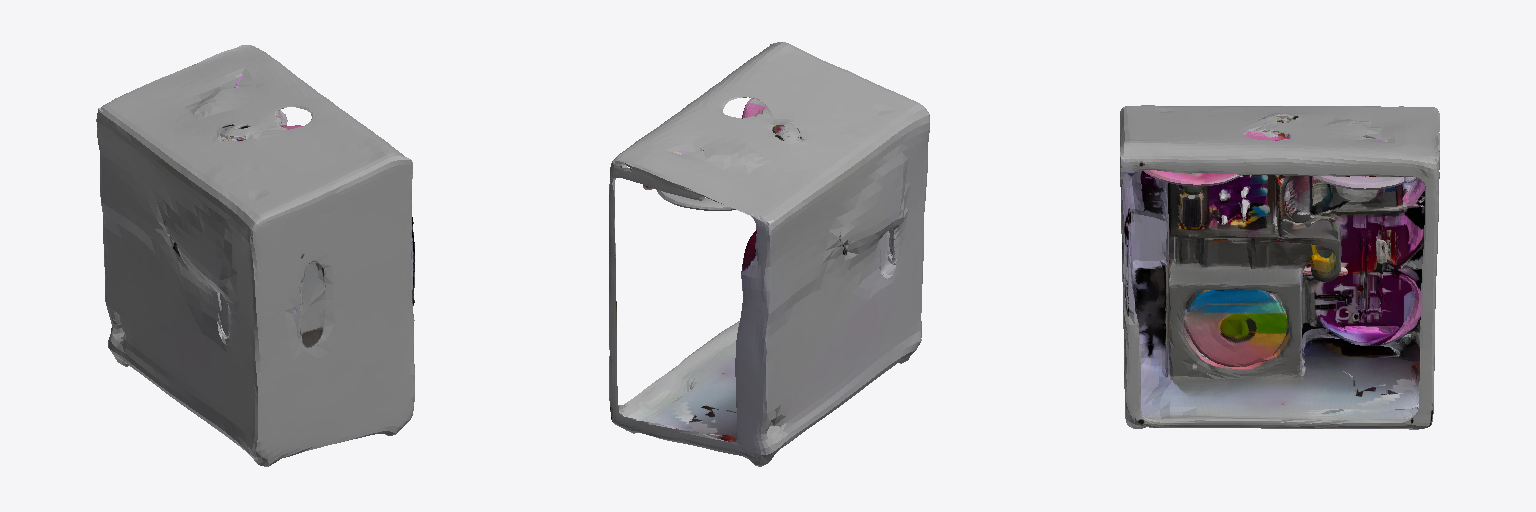
3 renders of one model, left to right at view 1: azimuth 30°, elevation 25°; view 2: azimuth 150°, elevation 25°; view 3: azimuth 270°, elevation 25°, orthographic.
Parts seen in each view (by area): view 1: tripo_node_761fa369-2f04-404a-b8f8-e7bade44b28b; view 2: tripo_node_761fa369-2f04-404a-b8f8-e7bade44b28b; view 3: tripo_node_761fa369-2f04-404a-b8f8-e7bade44b28b.
Part boxes in pixels (left/top/right/bottom): tripo_node_761fa369-2f04-404a-b8f8-e7bade44b28b: left=96, top=45, right=414, bottom=466; tripo_node_761fa369-2f04-404a-b8f8-e7bade44b28b: left=609, top=42, right=929, bottom=466; tripo_node_761fa369-2f04-404a-b8f8-e7bade44b28b: left=1120, top=105, right=1439, bottom=429.
Size of the model in its own units: 0.6037 by 0.9805 by 0.9955.
1 materials, 1 textured.